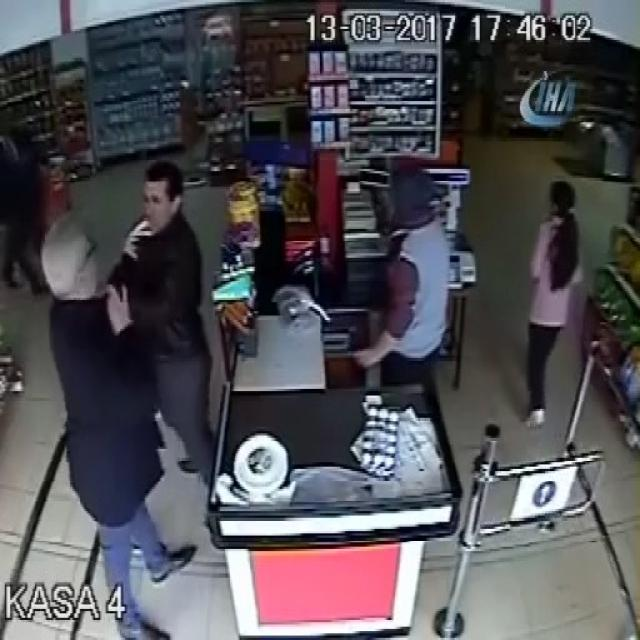fight: (41, 154, 200, 640)
